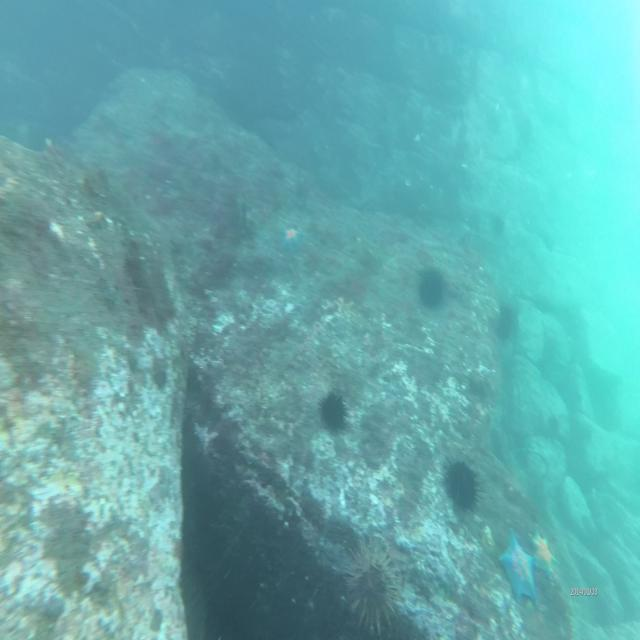echinus: (342, 539, 402, 637), (441, 454, 484, 518), (316, 383, 349, 443), (416, 258, 447, 312), (494, 296, 518, 344)
starfish: (496, 523, 539, 609), (525, 530, 561, 583), (279, 217, 305, 260)
